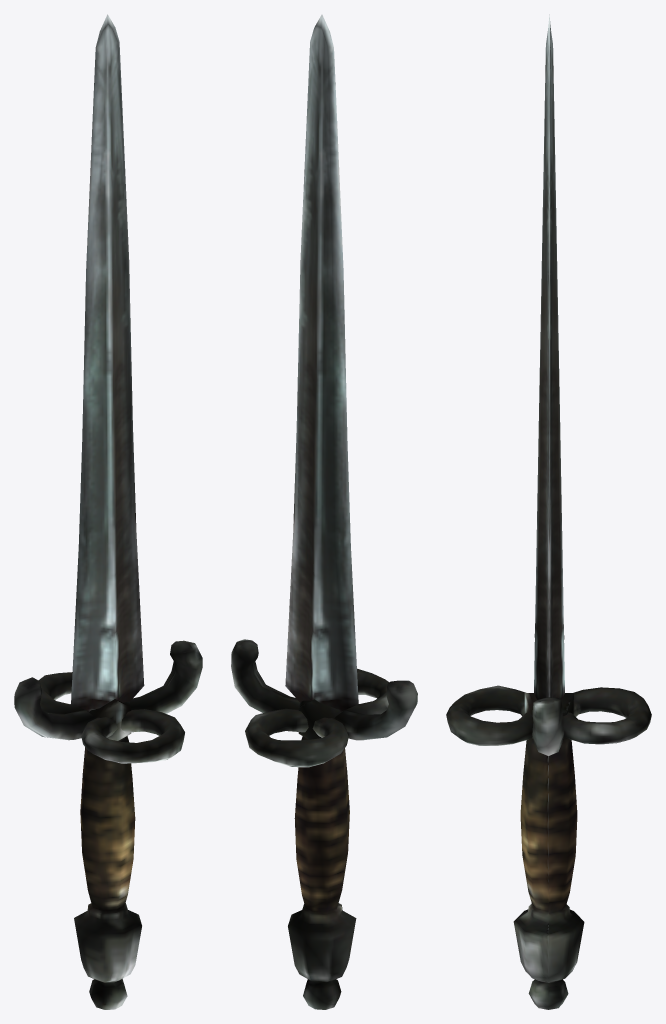
File: weapon-rogue-messer.glb
The picture shows the model from 3 angles, left to right: view 1: azimuth 30°, elevation 25°; view 2: azimuth 150°, elevation 25°; view 3: azimuth 270°, elevation 25°; orthographic projection.
Visible parts, largest first — view 1: rogueDagger_MDL_q; view 2: rogueDagger_MDL_q; view 3: rogueDagger_MDL_q.
Boxes of the visible parts, left/top/right/bottom form: rogueDagger_MDL_q: left=14, top=14, right=202, bottom=1009; rogueDagger_MDL_q: left=231, top=14, right=417, bottom=1009; rogueDagger_MDL_q: left=446, top=14, right=651, bottom=1009.
Size of the model in its own units: 0.1813 by 0.9327 by 0.1747.
Materials: 2 (2 with a texture image).
